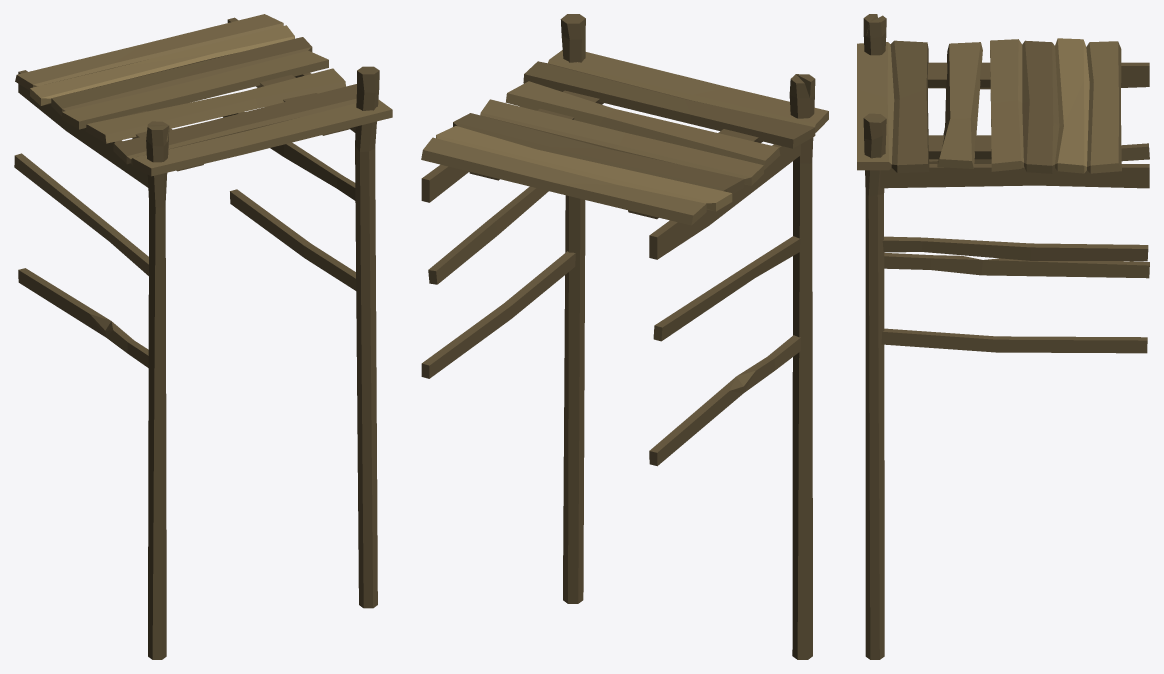
File: Dock_1.fbx
The picture shows the model from 3 angles, left to right: view 1: azimuth 30°, elevation 25°; view 2: azimuth 150°, elevation 25°; view 3: azimuth 270°, elevation 25°; orthographic projection. The views are drawn at different scales.
Parts seen in each view (by area): view 1: Dock_1; view 2: Dock_1; view 3: Dock_1.
Boxes of the visible parts, <box> form: Dock_1: <box>14,14,392,659</box>; Dock_1: <box>421,14,828,659</box>; Dock_1: <box>857,14,1149,659</box>.
Size of the model in its own units: 342 by 674 by 332.
